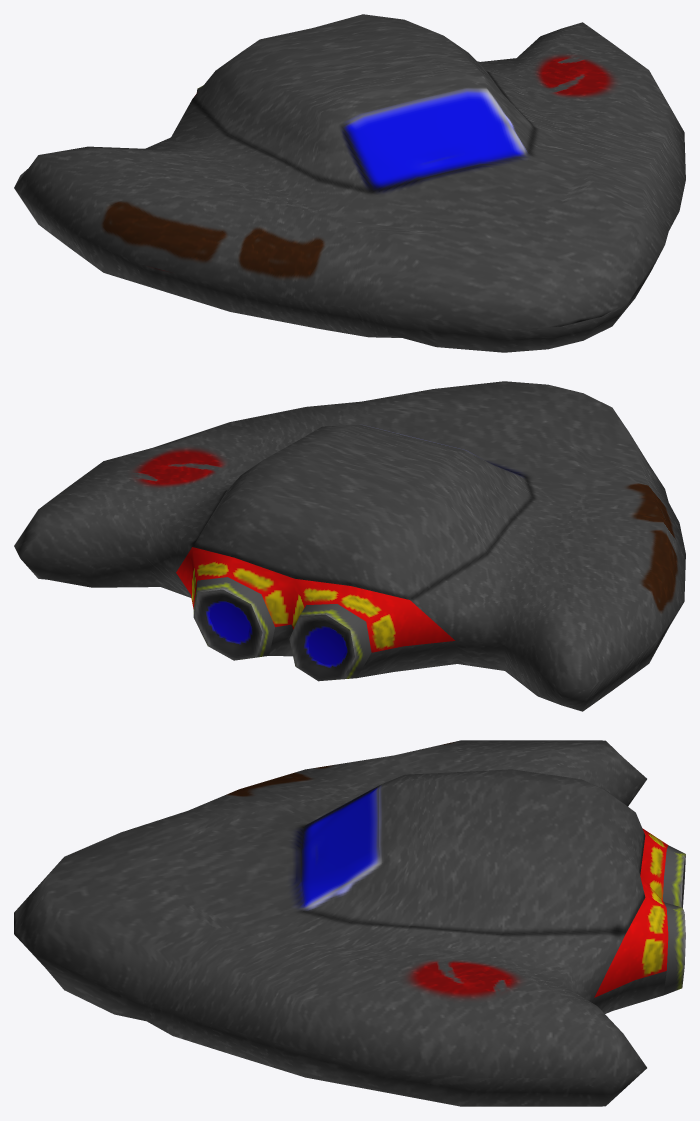
Rendered from SpaceShip4.fbx.
3 renders of one model, top to bottom at view 1: azimuth 30°, elevation 25°; view 2: azimuth 150°, elevation 25°; view 3: azimuth 270°, elevation 25°, orthographic. The views are drawn at different scales.
Visible parts, largest first — view 1: pCube1; view 2: pCube1; view 3: pCube1.
Boxes of the visible parts, <box> form: pCube1: <box>14,14,685,352</box>; pCube1: <box>14,381,685,711</box>; pCube1: <box>14,740,685,1106</box>.
Size of the model in its own units: 13.12 by 3.26 by 12.05.
